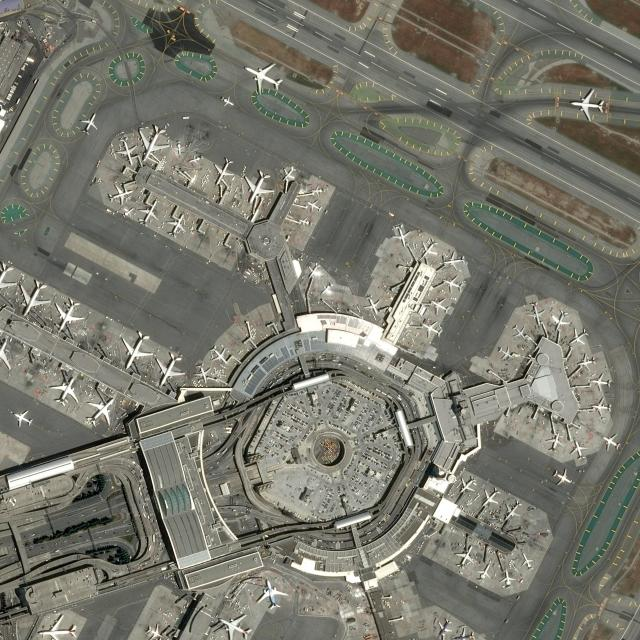1: (36, 614, 76, 639), (0, 260, 15, 296), (0, 334, 12, 370), (454, 625, 474, 639)
aircraft: (120, 328, 152, 370), (244, 60, 283, 94), (18, 278, 50, 316), (255, 576, 288, 612), (138, 123, 168, 161), (569, 88, 604, 120), (54, 296, 84, 333), (154, 353, 186, 386), (214, 614, 252, 639), (85, 392, 112, 427), (49, 375, 78, 405), (245, 169, 272, 201), (115, 136, 135, 166), (452, 542, 473, 570), (105, 183, 132, 203), (213, 158, 233, 185), (78, 110, 98, 134), (165, 213, 185, 237), (138, 200, 157, 224), (550, 309, 570, 331), (590, 372, 612, 392), (504, 498, 524, 520), (441, 275, 464, 294), (441, 251, 466, 268), (568, 326, 588, 347), (420, 238, 440, 258), (551, 468, 573, 486), (10, 409, 33, 426), (481, 487, 500, 507), (392, 225, 410, 246), (458, 475, 476, 496), (420, 320, 442, 337), (361, 294, 379, 314), (430, 296, 450, 314), (209, 345, 227, 365), (568, 439, 586, 459), (545, 431, 563, 451), (602, 431, 619, 452), (526, 301, 542, 323), (578, 352, 598, 369), (144, 622, 165, 638), (193, 362, 209, 382), (498, 568, 514, 588), (476, 559, 492, 579), (436, 618, 451, 639), (186, 152, 203, 166), (282, 166, 296, 183), (520, 553, 534, 569), (306, 200, 322, 212), (172, 140, 184, 155), (219, 95, 233, 107), (298, 216, 310, 229), (311, 185, 322, 198)
